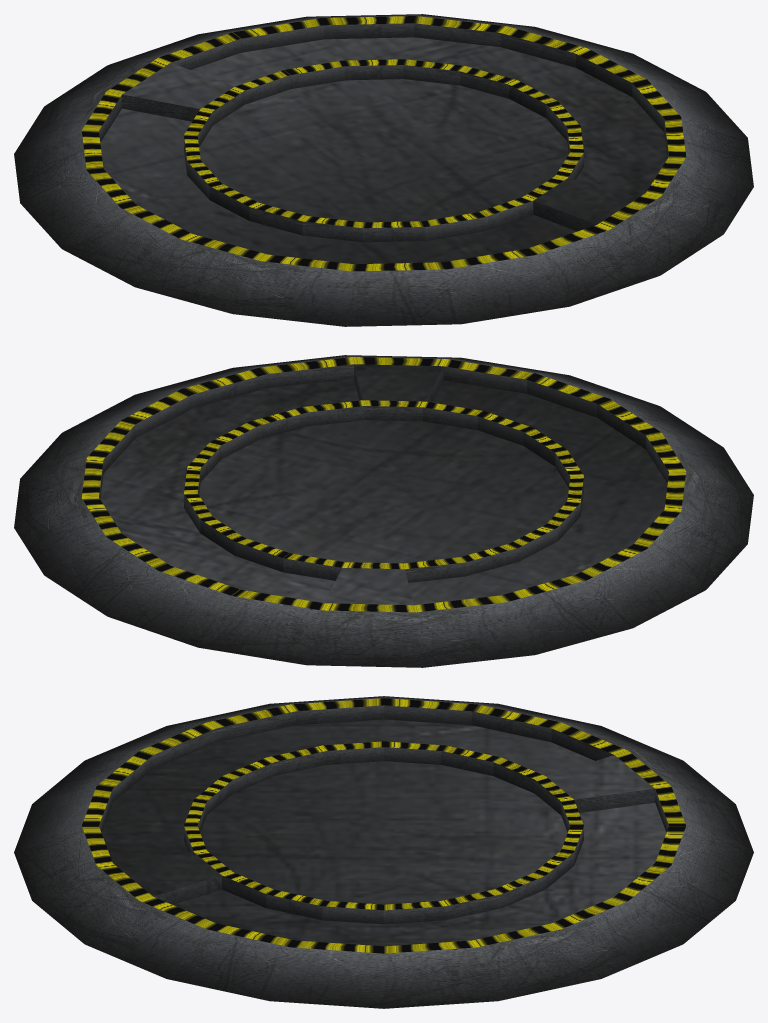
File: PowerupPlatform.fbx
3 renders of one model, top to bottom at view 1: azimuth 30°, elevation 25°; view 2: azimuth 150°, elevation 25°; view 3: azimuth 270°, elevation 25°, orthographic.
Visible parts, largest first — view 1: powerupPlatform; view 2: powerupPlatform; view 3: powerupPlatform.
Part boxes in pixels (x1,y1,x2,y2): powerupPlatform: (14, 14, 753, 326); powerupPlatform: (14, 355, 753, 667); powerupPlatform: (14, 696, 753, 1008).
Size of the model in its own units: 12.65 by 0.5017 by 12.65.
